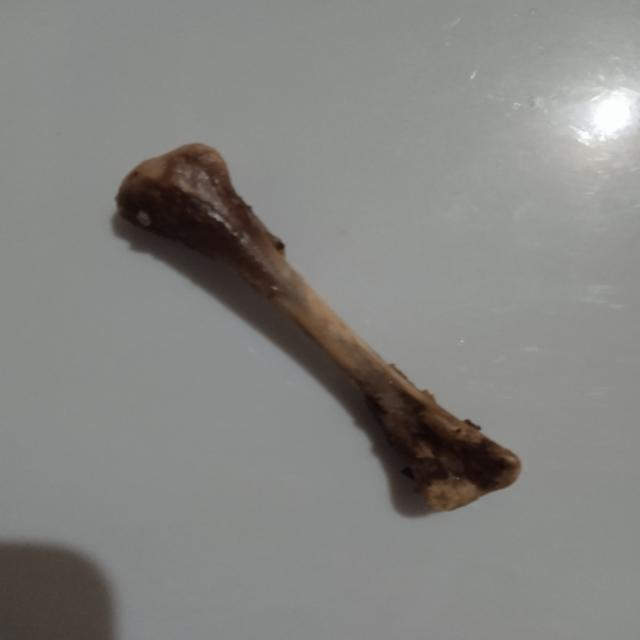bone: (101, 133, 531, 522)
